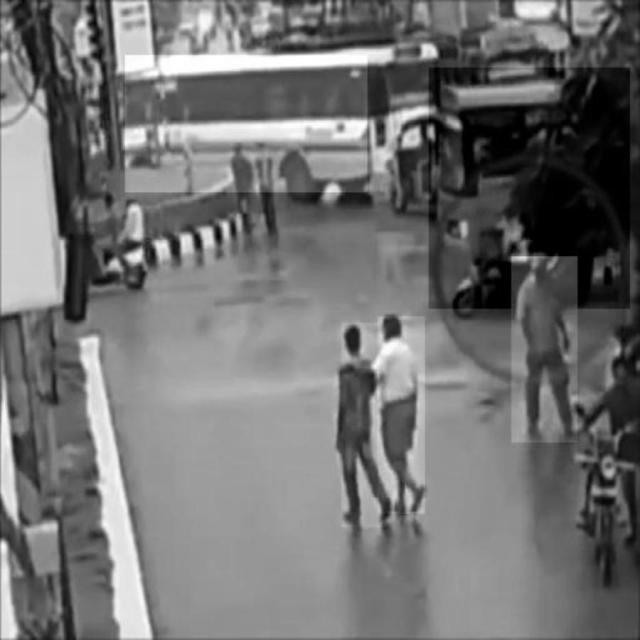accident: (429, 68, 630, 309)
person: (512, 256, 578, 442), (378, 317, 425, 514), (342, 323, 387, 528)
vehicle: (125, 55, 367, 192)
